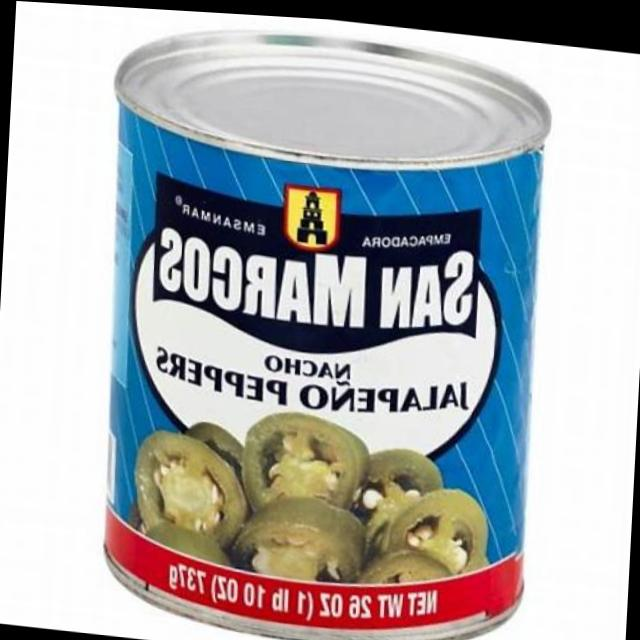Lata: (94, 17, 554, 640)
